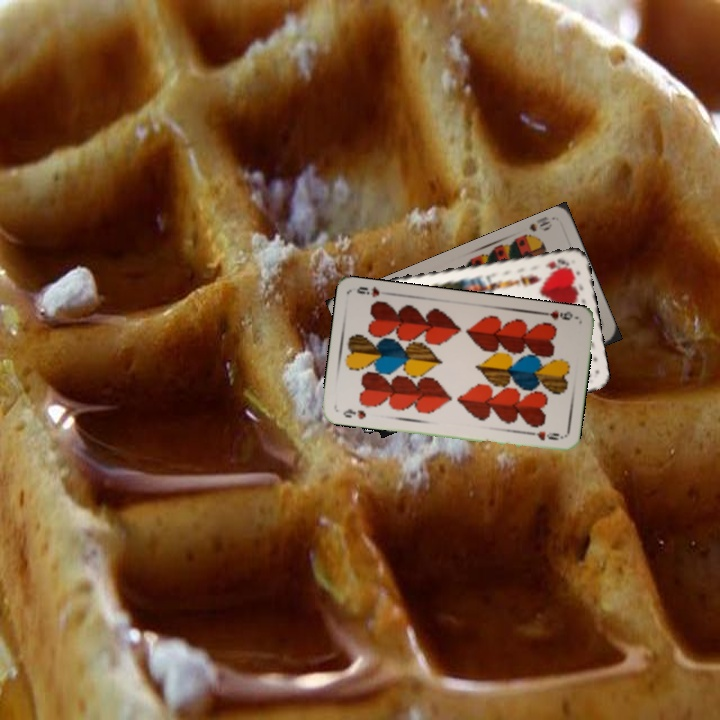H9: (538, 306, 579, 323), (339, 404, 368, 422)
HK: (541, 255, 572, 271)
S10: (519, 213, 554, 242)
